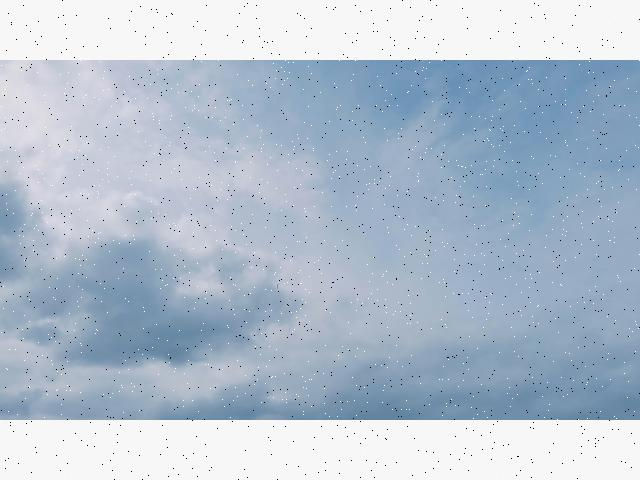Anti-Drone: (275, 282, 281, 292)
